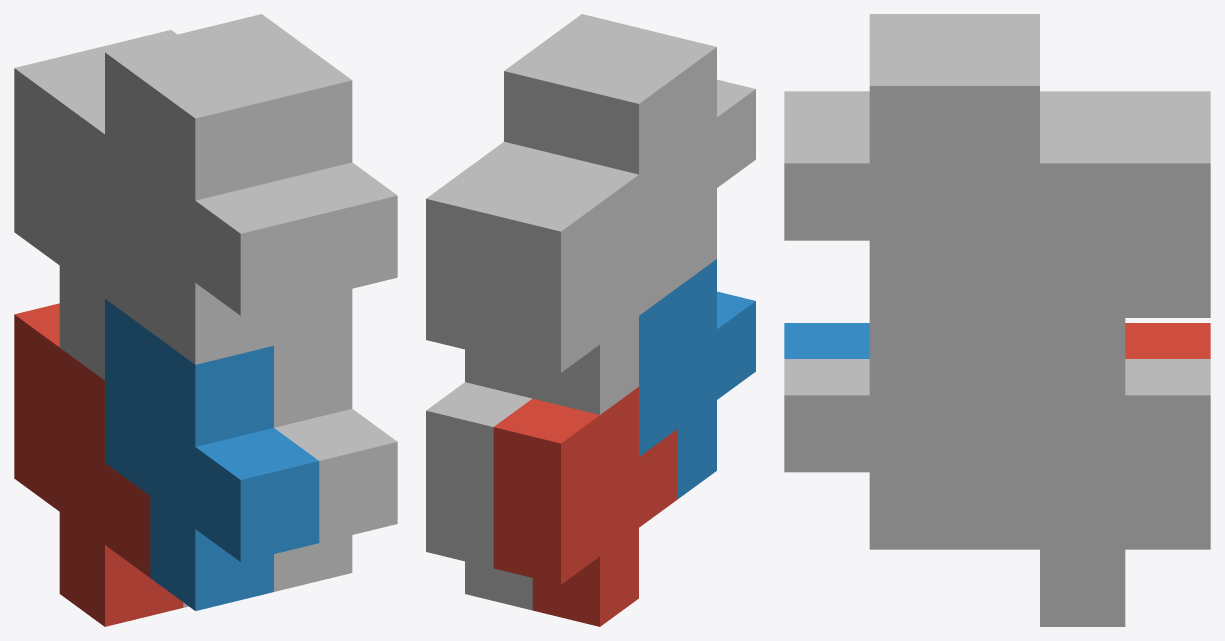
Rendered from tiling.obj.
3 renders of one model, left to right at view 1: azimuth 30°, elevation 25°; view 2: azimuth 150°, elevation 25°; view 3: azimuth 270°, elevation 25°, orthographic. The views are drawn at different scales.
Parts seen in each view (by area): view 1: copy_1_domain_4, copy_1_domain_2, copy_1_domain_1, copy_1_domain_8, copy_1_domain_3, copy_1_domain_6, copy_1_domain_7; view 2: copy_1_domain_3, copy_1_domain_1, copy_1_domain_4, copy_1_domain_2, copy_1_domain_7, copy_1_domain_5, copy_1_domain_8; view 3: copy_1_domain_8, copy_1_domain_7, copy_1_domain_5, copy_1_domain_6, copy_1_domain_4, copy_1_domain_3, copy_1_domain_1, copy_1_domain_2.
Part boxes in pixels (x1=…): copy_1_domain_4: x1=105, y1=33, x2=319, y2=364; copy_1_domain_2: x1=105, y1=299, x2=319, y2=610; copy_1_domain_1: x1=14, y1=303, x2=183, y2=626; copy_1_domain_8: x1=183, y1=14, x2=397, y2=345; copy_1_domain_3: x1=14, y1=49, x2=150, y2=380; copy_1_domain_6: x1=274, y1=327, x2=397, y2=591; copy_1_domain_7: x1=93, y1=30, x2=177, y2=57; copy_1_domain_3: x1=493, y1=158, x2=677, y2=414; copy_1_domain_1: x1=493, y1=387, x2=677, y2=626; copy_1_domain_4: x1=571, y1=30, x2=755, y2=286; copy_1_domain_2: x1=639, y1=259, x2=755, y2=498; copy_1_domain_7: x1=426, y1=141, x2=571, y2=398; copy_1_domain_5: x1=426, y1=382, x2=532, y2=610; copy_1_domain_8: x1=504, y1=14, x2=648, y2=157; copy_1_domain_8: x1=784, y1=50, x2=1039, y2=317; copy_1_domain_7: x1=955, y1=127, x2=1210, y2=395; copy_1_domain_5: x1=955, y1=359, x2=1210, y2=626; copy_1_domain_6: x1=784, y1=318, x2=1039, y2=549; copy_1_domain_4: x1=784, y1=14, x2=1039, y2=127; copy_1_domain_3: x1=1040, y1=91, x2=1210, y2=127; copy_1_domain_1: x1=1125, y1=323, x2=1210, y2=358; copy_1_domain_2: x1=784, y1=323, x2=869, y2=358.
Size of the model in its own units: 2 by 7 by 5.
